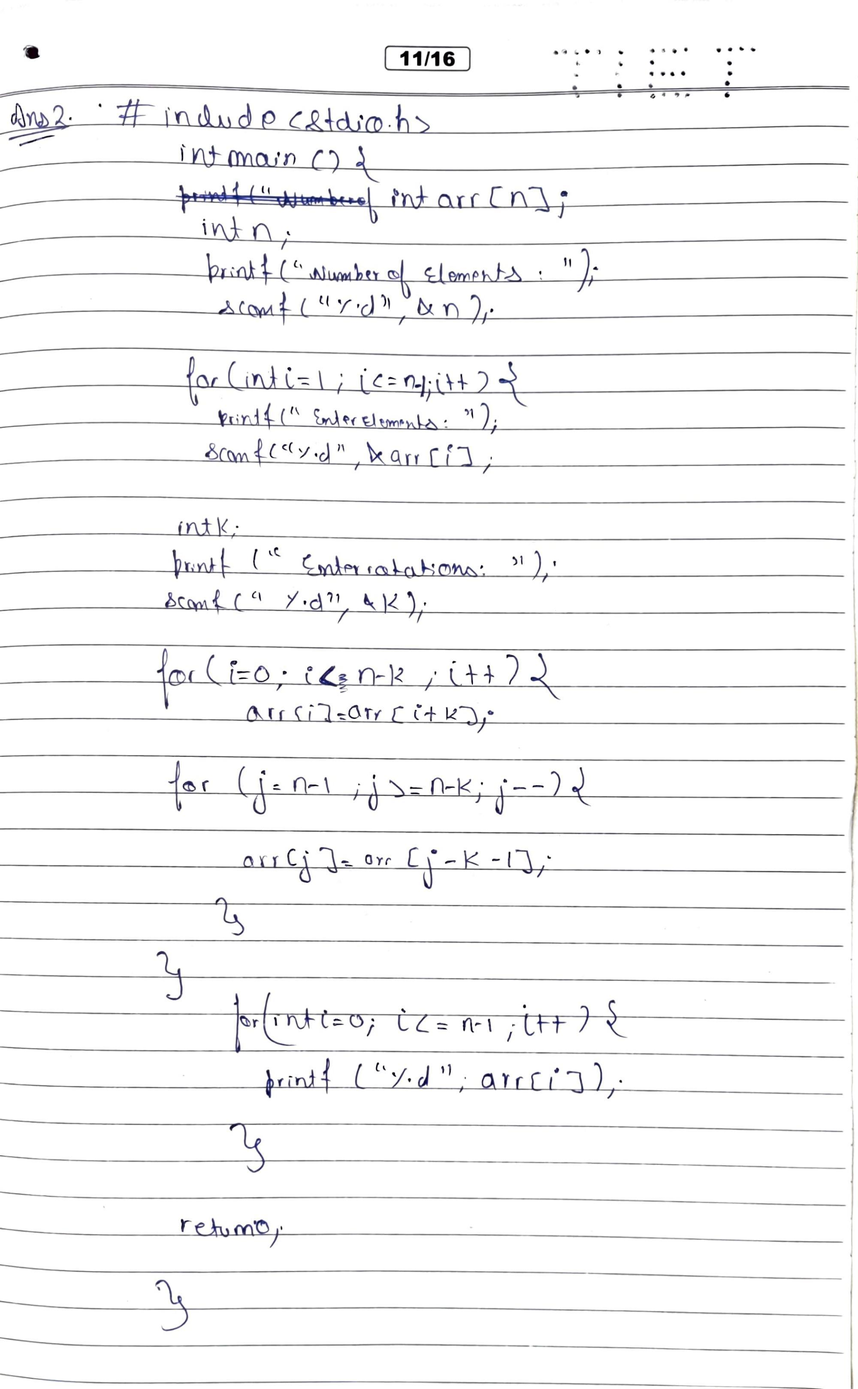cuttings: (176, 181, 384, 226)
